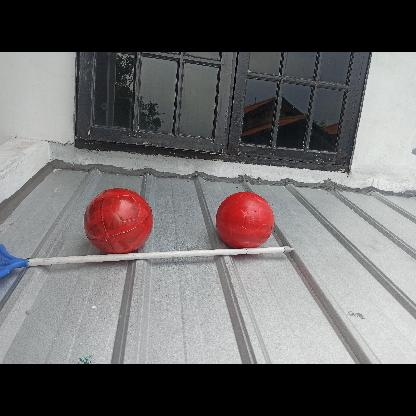red_ball: (86, 186, 154, 254), (218, 191, 274, 247)
